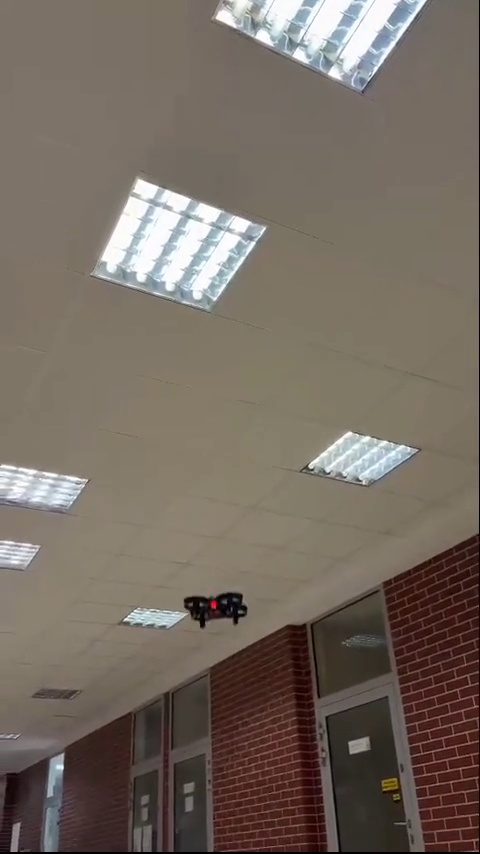drone: (182, 590, 248, 629)
